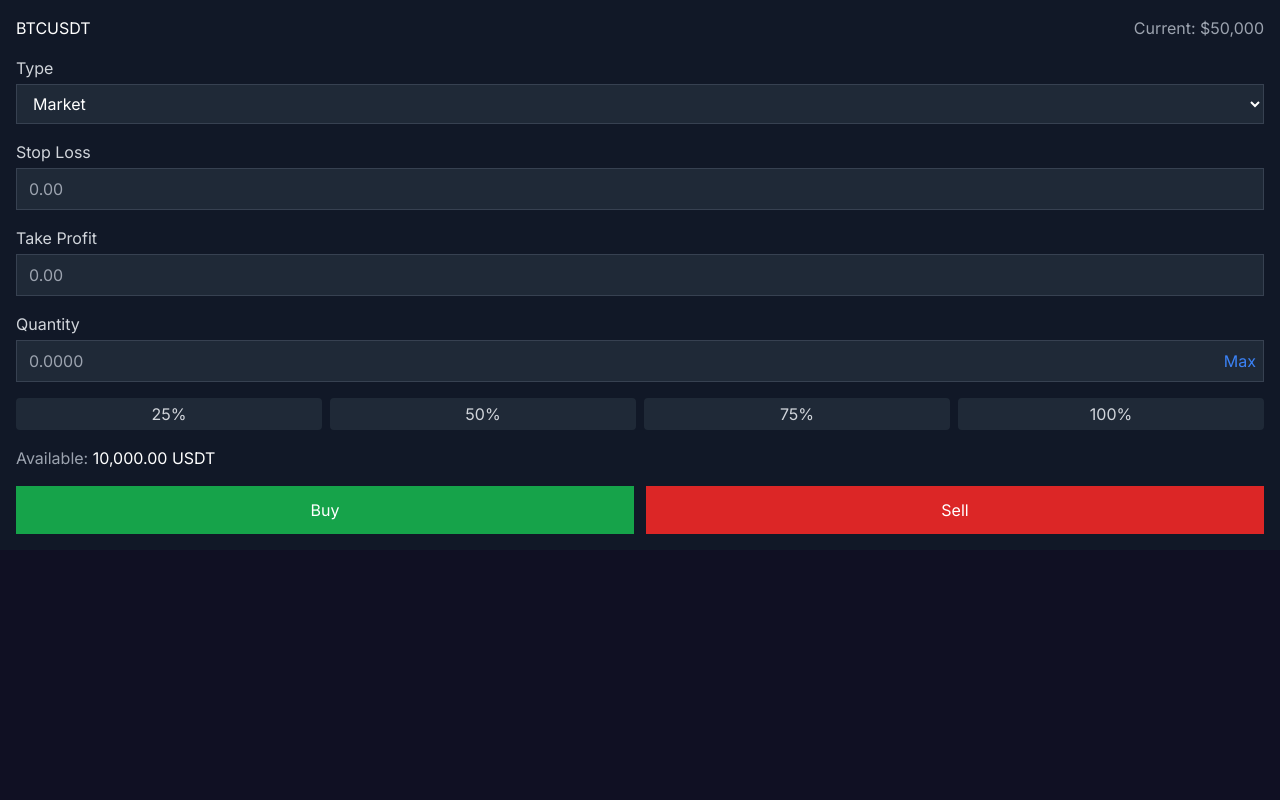
Test: PanelPB › validation › should show error for insufficient balance
Type "1" into the number field labelled "Quantity" at {"x": 640, "y": 361}, box top-left (16, 340), bottom-right (1264, 382)
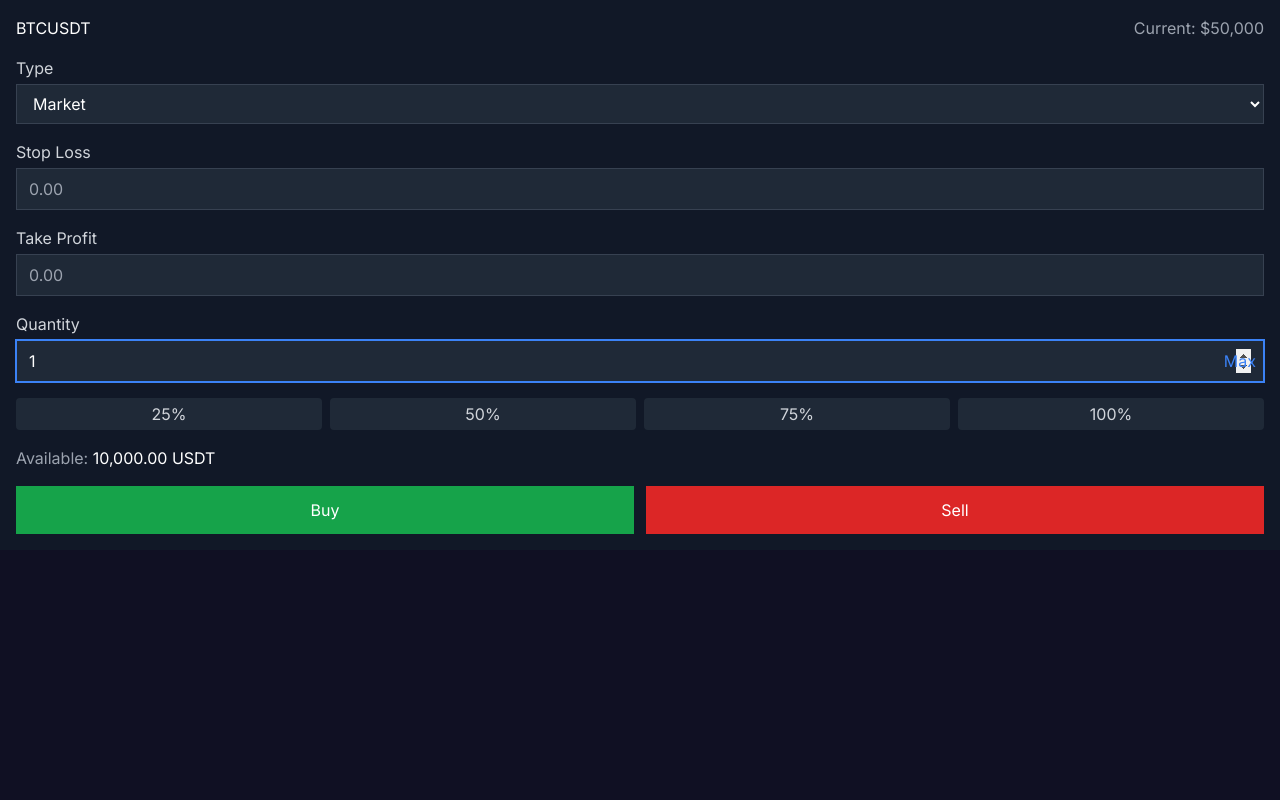
Type "49000" into the number field labelled "Stop Loss" at {"x": 640, "y": 189}, box top-left (16, 168), bottom-right (1264, 210)
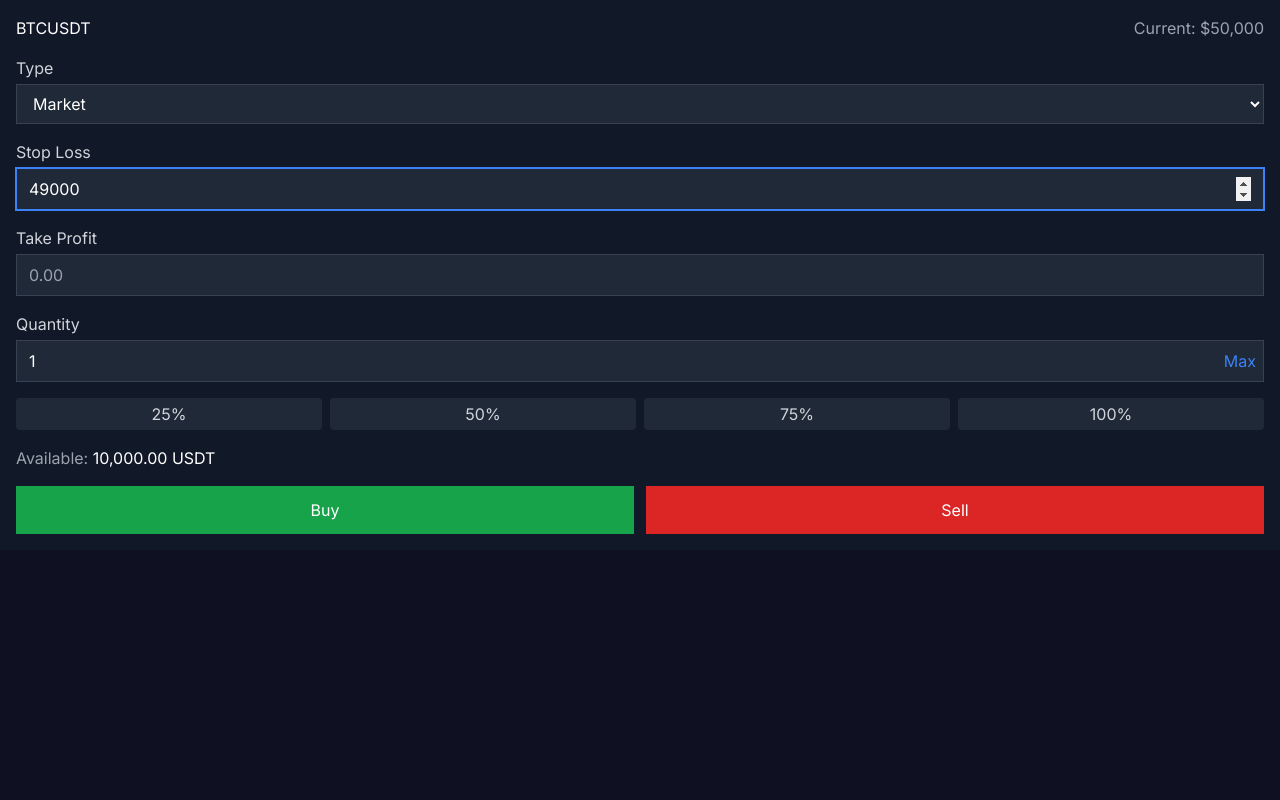
Type "51000" into the number field labelled "Take Profit" at {"x": 640, "y": 275}, box top-left (16, 254), bottom-right (1264, 296)
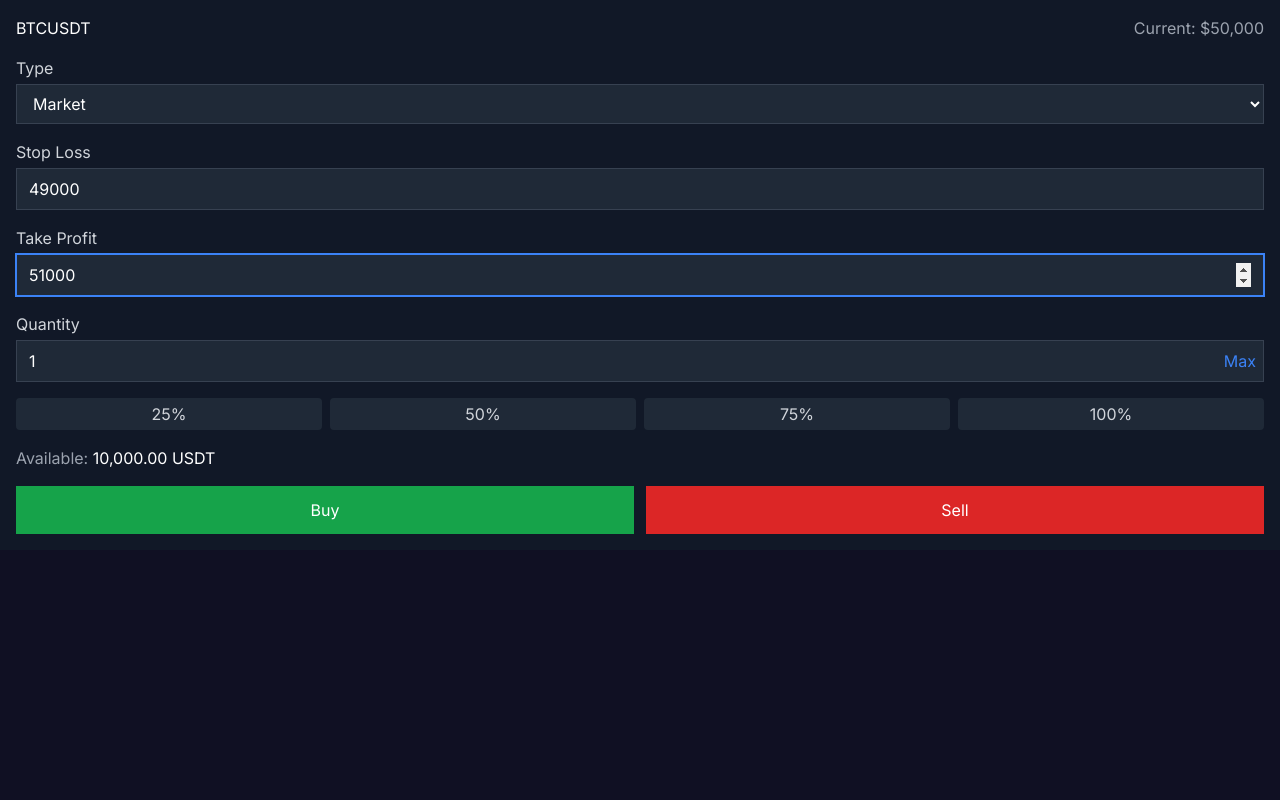
Click the button with test id "buy-button" at {"x": 325, "y": 510}, box top-left (16, 486), bottom-right (634, 534)
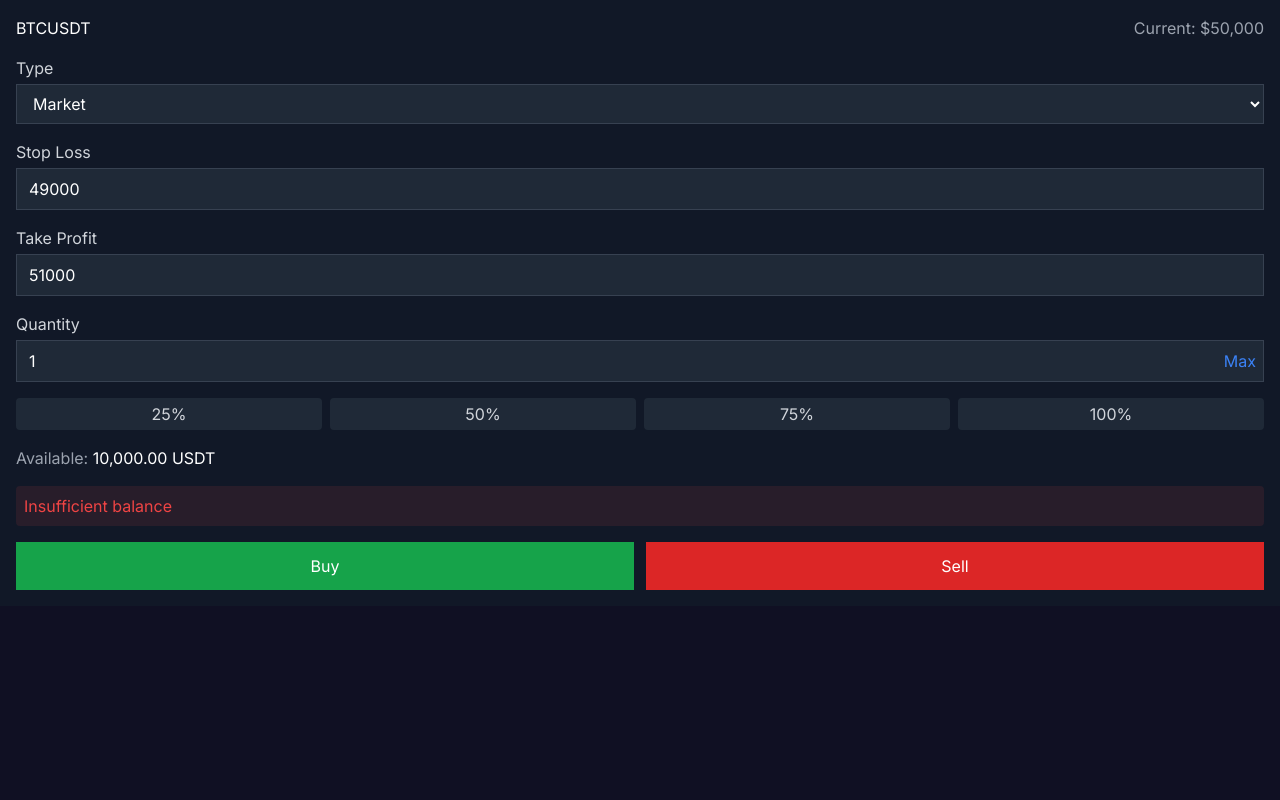
Check: the text "Insufficient balance" is shown, box top-left (16, 486), bottom-right (1264, 526)
